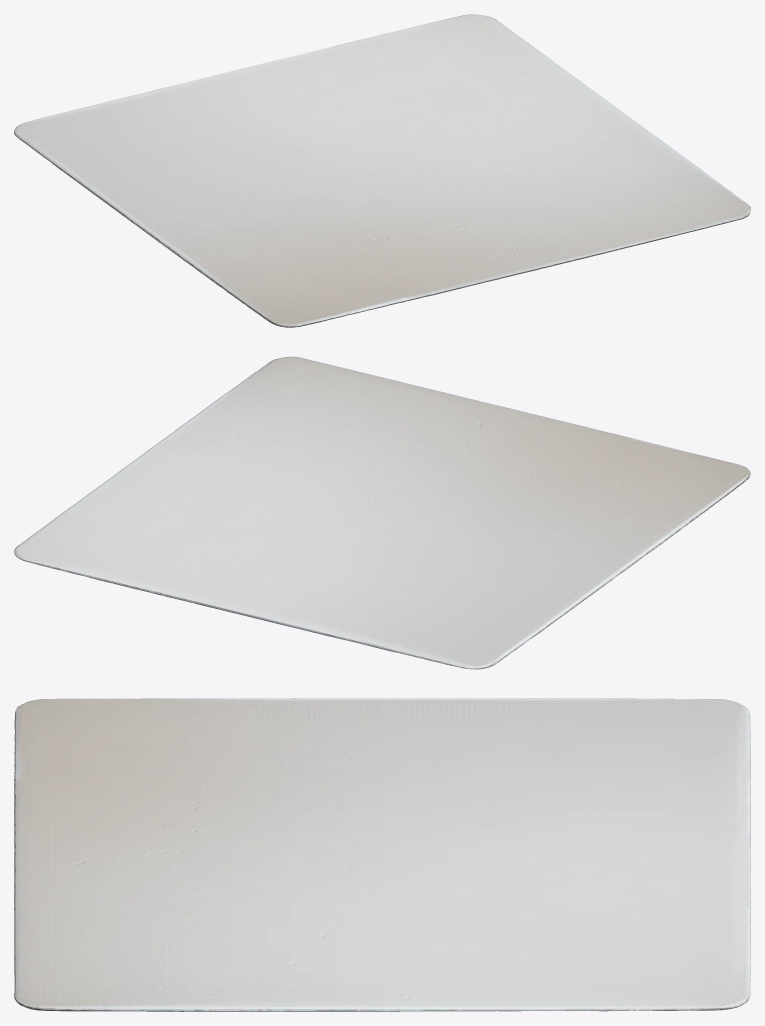
The model's file is ast_4bdfae0538e5.glb.
3 renders of one model, top to bottom at view 1: azimuth 30°, elevation 25°; view 2: azimuth 150°, elevation 25°; view 3: azimuth 270°, elevation 25°, orthographic. The views are drawn at different scales.
Parts seen in each view (by area): view 1: geometry_0; view 2: geometry_0; view 3: geometry_0.
Boxes of the visible parts, bbox=[...] form: geometry_0: bbox=[14, 14, 750, 327]; geometry_0: bbox=[14, 356, 750, 669]; geometry_0: bbox=[14, 698, 750, 1011].
Bounding box in the file's own units: 1 × 0.00813 × 1.
1 material, 1 textured.
